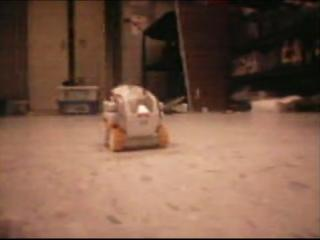cozmo: (100, 83, 169, 152)
